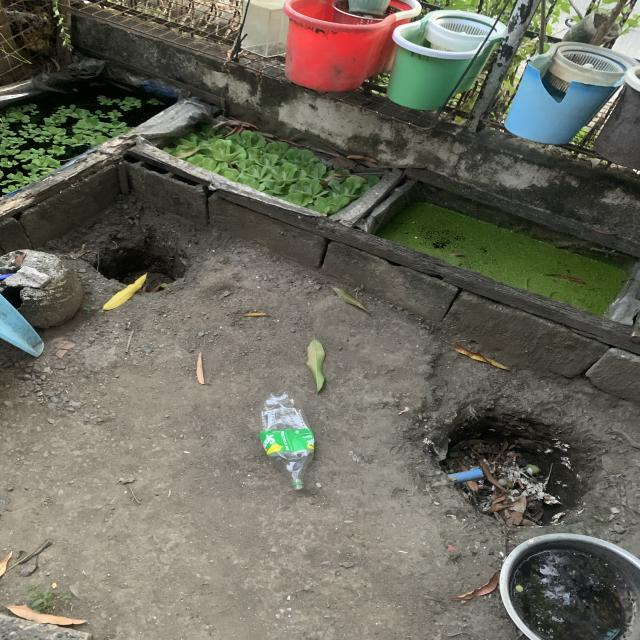Bottle: (260, 391, 315, 490)
